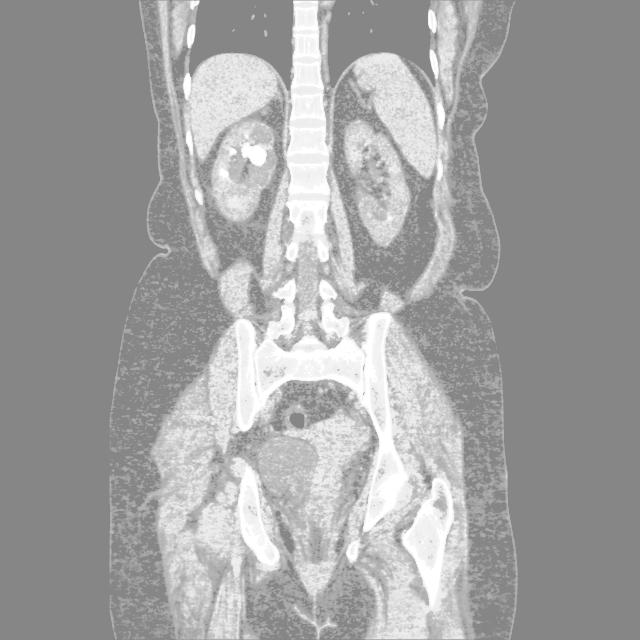STONE: (169, 92, 426, 257)
